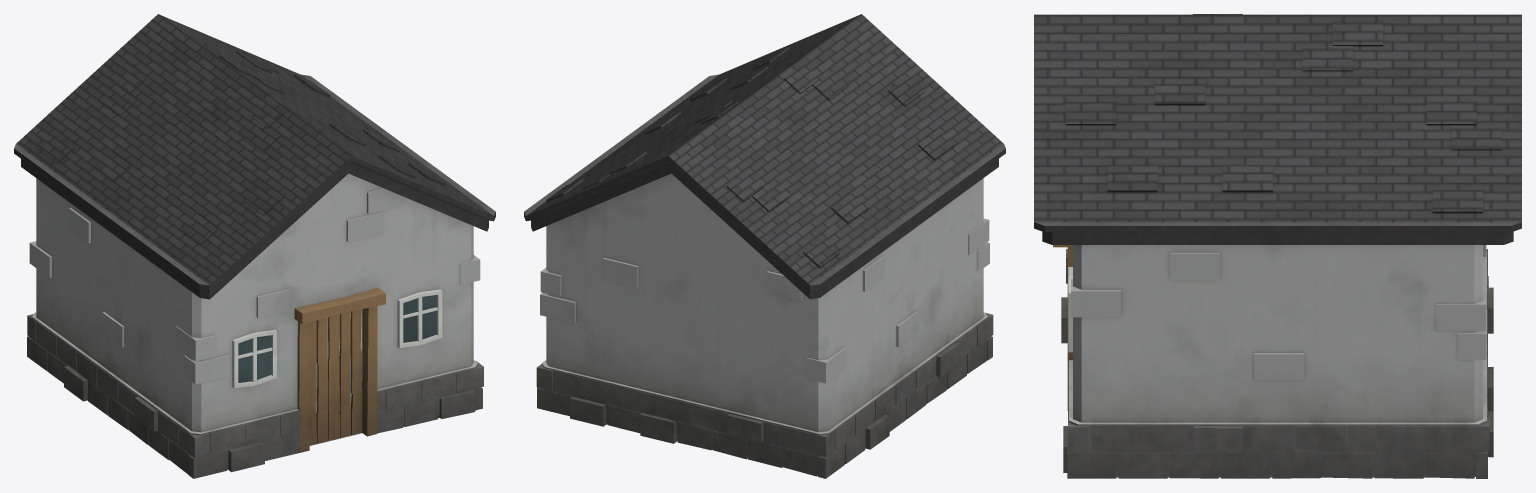
The model's file is 1Story_GableRoof.glb.
3 views of the same model, side by side, from view 1: azimuth 30°, elevation 25°; view 2: azimuth 150°, elevation 25°; view 3: azimuth 270°, elevation 25° (orthographic). The views are drawn at different scales.
Visible parts, largest first — view 1: 1Story_GableRoof_high; view 2: 1Story_GableRoof_high; view 3: 1Story_GableRoof_high.
Part boxes in pixels (box(x1,y1,x2,y2)): 1Story_GableRoof_high: box(14, 14, 495, 478); 1Story_GableRoof_high: box(524, 14, 1005, 478); 1Story_GableRoof_high: box(1034, 14, 1521, 478).
Size of the model in its own units: 2.11 by 2.02 by 2.38.
Materials: 2 (2 with a texture image).
